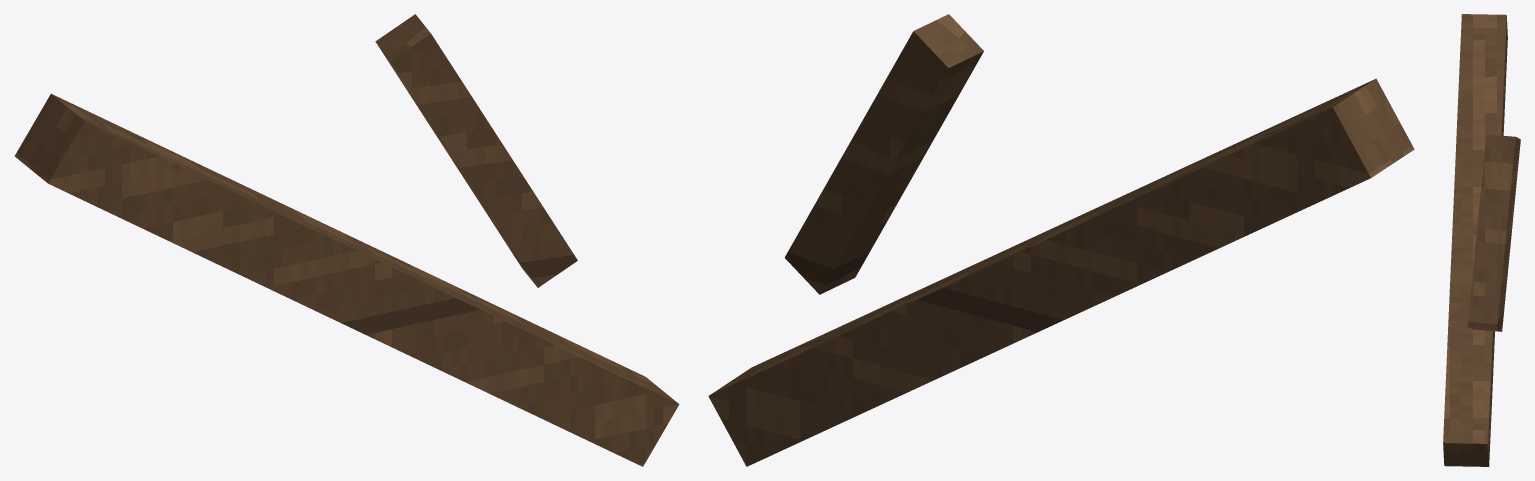
Rendered from hanging_board.gltf.
3 views of the same model, side by side, from view 1: azimuth 30°, elevation 25°; view 2: azimuth 150°, elevation 25°; view 3: azimuth 270°, elevation 25° (orthographic). The views are drawn at different scales.
Visible parts, largest first — view 1: hanging_board; view 2: hanging_board; view 3: hanging_board.
Part boxes in pixels (x1=…): hanging_board: x1=14, y1=14, x2=679, y2=466; hanging_board: x1=708, y1=14, x2=1414, y2=466; hanging_board: x1=1443, y1=14, x2=1520, y2=466.
Size of the model in its own units: 1.17 by 0.8492 by 0.2075.
1 material, 1 textured.
